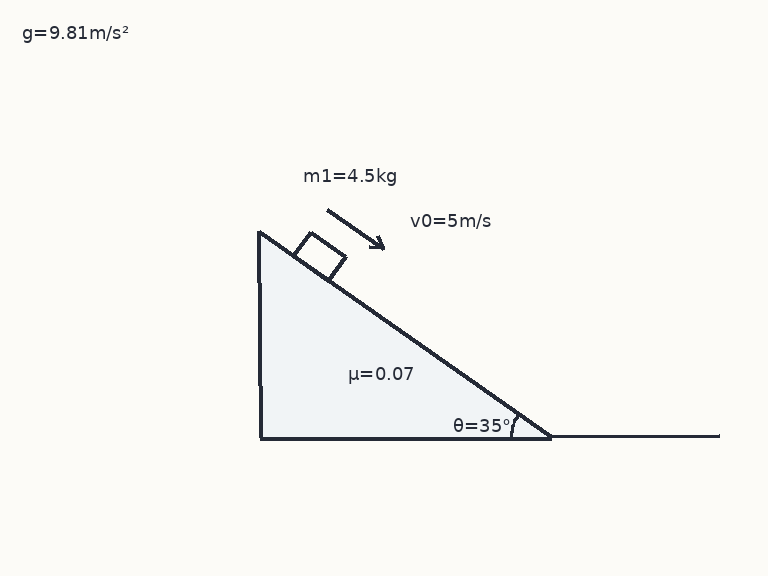block: (291, 229, 347, 282)
ramp: (257, 231, 553, 439)
